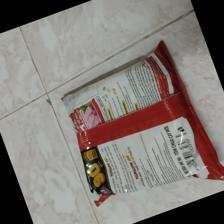Kokomi: (59, 40, 224, 209)
